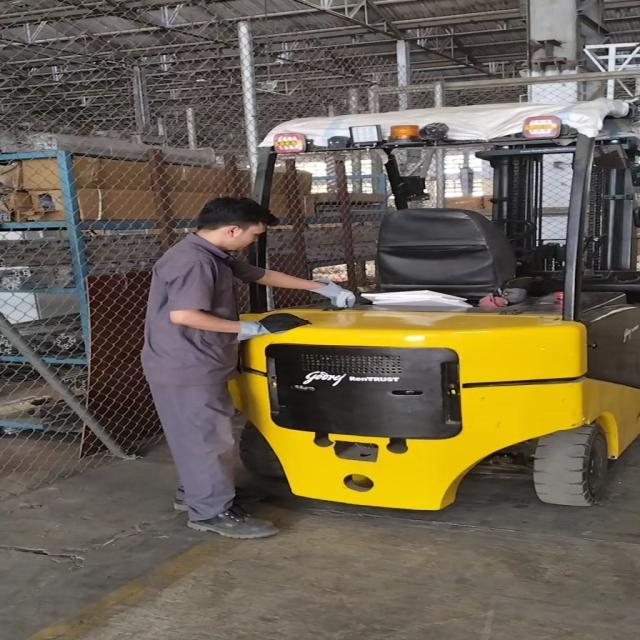Gloves-Detection: (240, 313, 300, 344), (312, 278, 355, 310)
